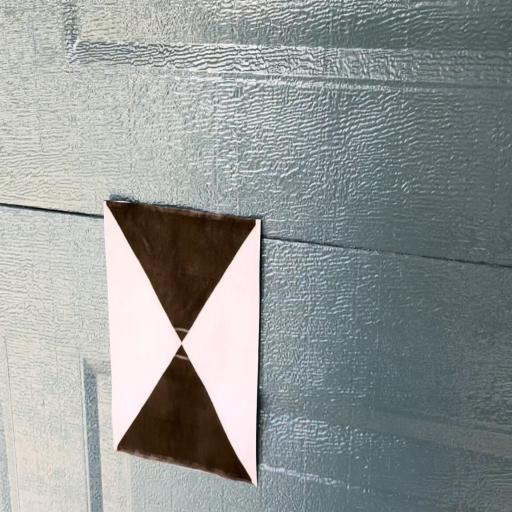target: (102, 200, 259, 485)
